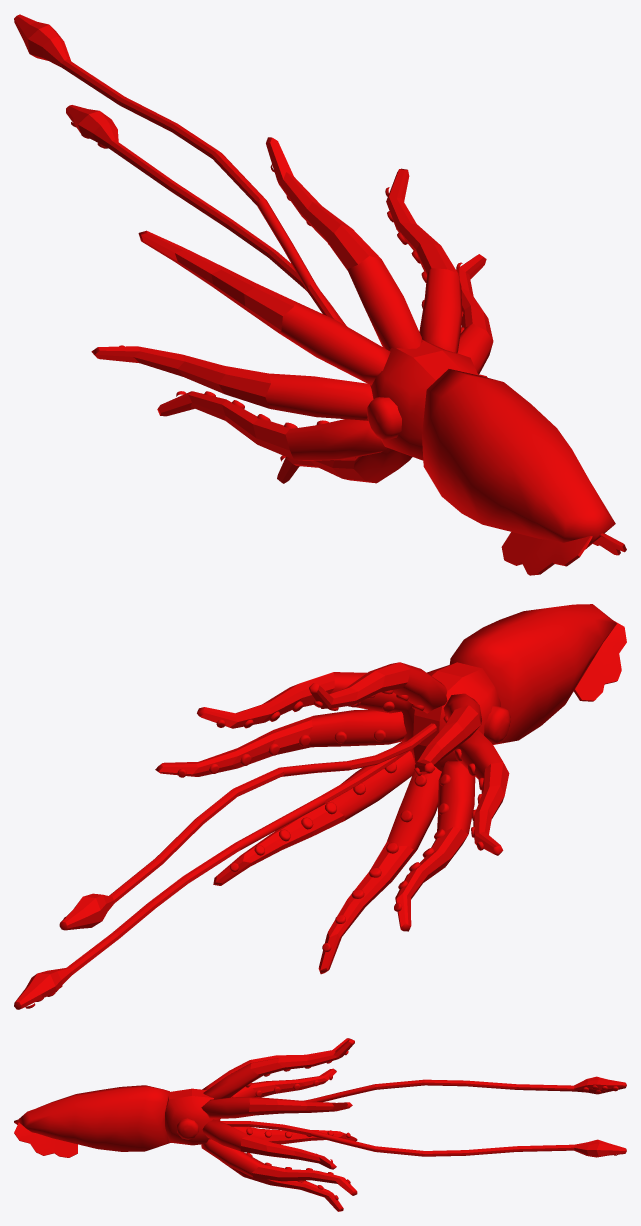
The picture shows the model from 3 angles, top to bottom: view 1: azimuth 30°, elevation 25°; view 2: azimuth 150°, elevation 25°; view 3: azimuth 270°, elevation 25°; orthographic projection. The views are drawn at different scales.
Visible parts, largest first — view 1: Fish_GiantSquid; view 2: Fish_GiantSquid; view 3: Fish_GiantSquid.
Boxes of the visible parts, box(x1,y1,x2,y2) form: Fish_GiantSquid: box(14, 14, 626, 575); Fish_GiantSquid: box(14, 604, 626, 1009); Fish_GiantSquid: box(14, 1038, 626, 1211).
Size of the model in its own units: 0.8533 by 0.7037 by 2.26.
